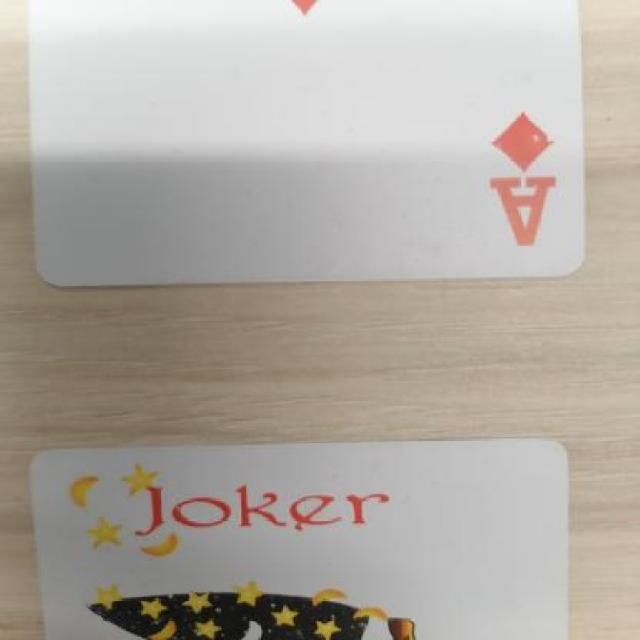AD: (481, 103, 568, 254)
BLACK JOKER: (64, 459, 419, 567)
